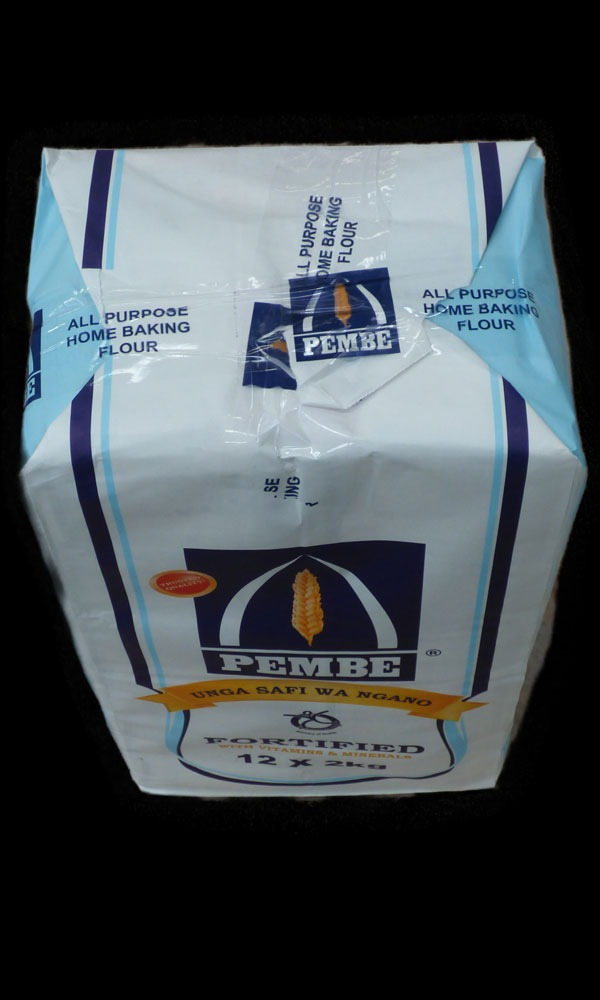wheat_flour_blue_label: (30, 141, 583, 794)
